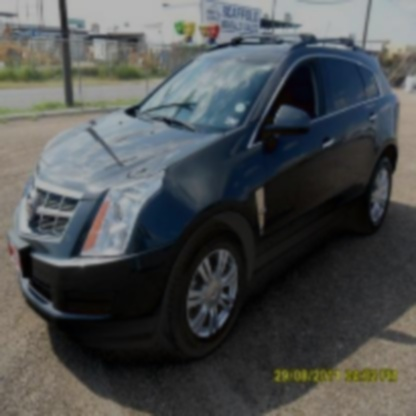Vehicle: (7, 35, 400, 360)
